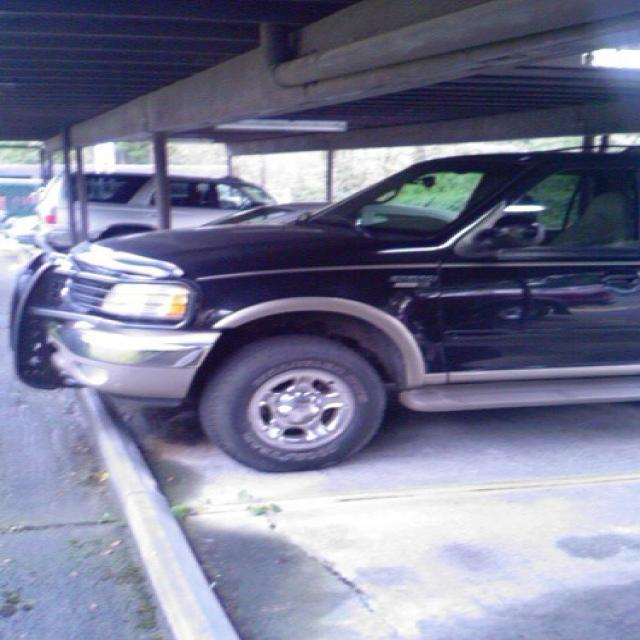car: (5, 141, 638, 475), (32, 172, 284, 244), (203, 200, 476, 230)
